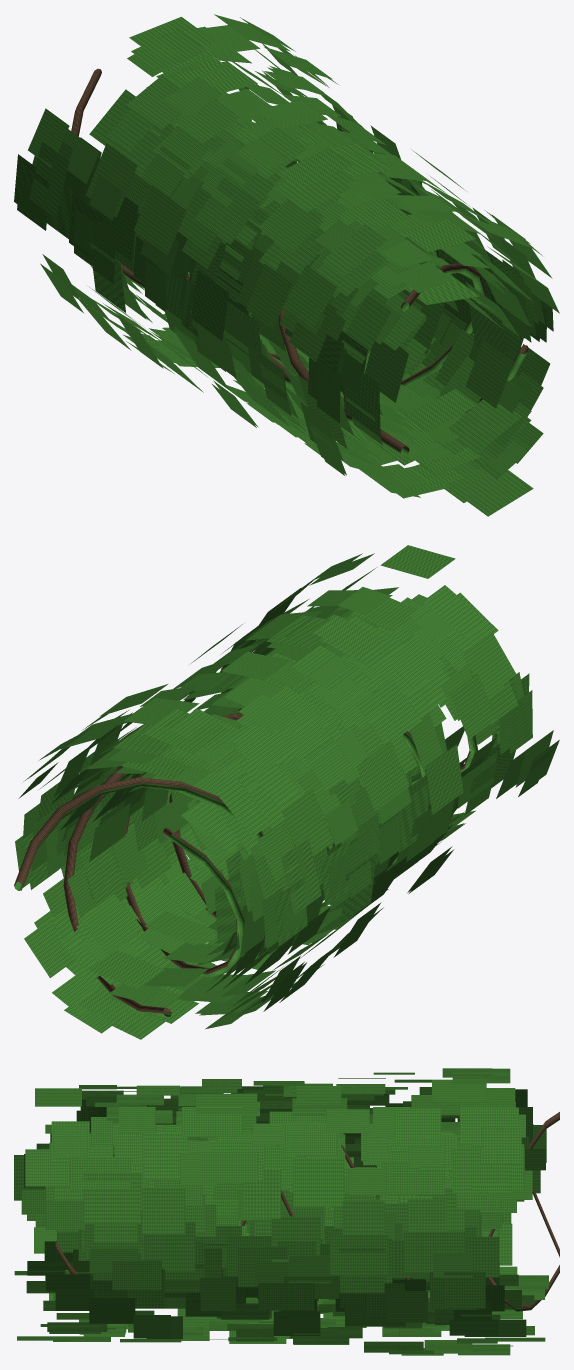
Rendered from veg_vine_bougainvillea_01.glb.
The picture shows the model from 3 angles, top to bottom: view 1: azimuth 30°, elevation 25°; view 2: azimuth 150°, elevation 25°; view 3: azimuth 270°, elevation 25°; orthographic projection. The views are drawn at different scales.
Parts seen in each view (by area): view 1: veg_vine_bougainvillea_01; view 2: veg_vine_bougainvillea_01; view 3: veg_vine_bougainvillea_01.
Boxes of the visible parts, left/top/right/bottom form: veg_vine_bougainvillea_01: left=14, top=14, right=559, bottom=516; veg_vine_bougainvillea_01: left=14, top=545, right=559, bottom=1039; veg_vine_bougainvillea_01: left=14, top=1068, right=559, bottom=1355.
Bounding box in the file's own units: 1.27 × 1.26 × 2.4.
Materials: 1 (1 with a texture image).
